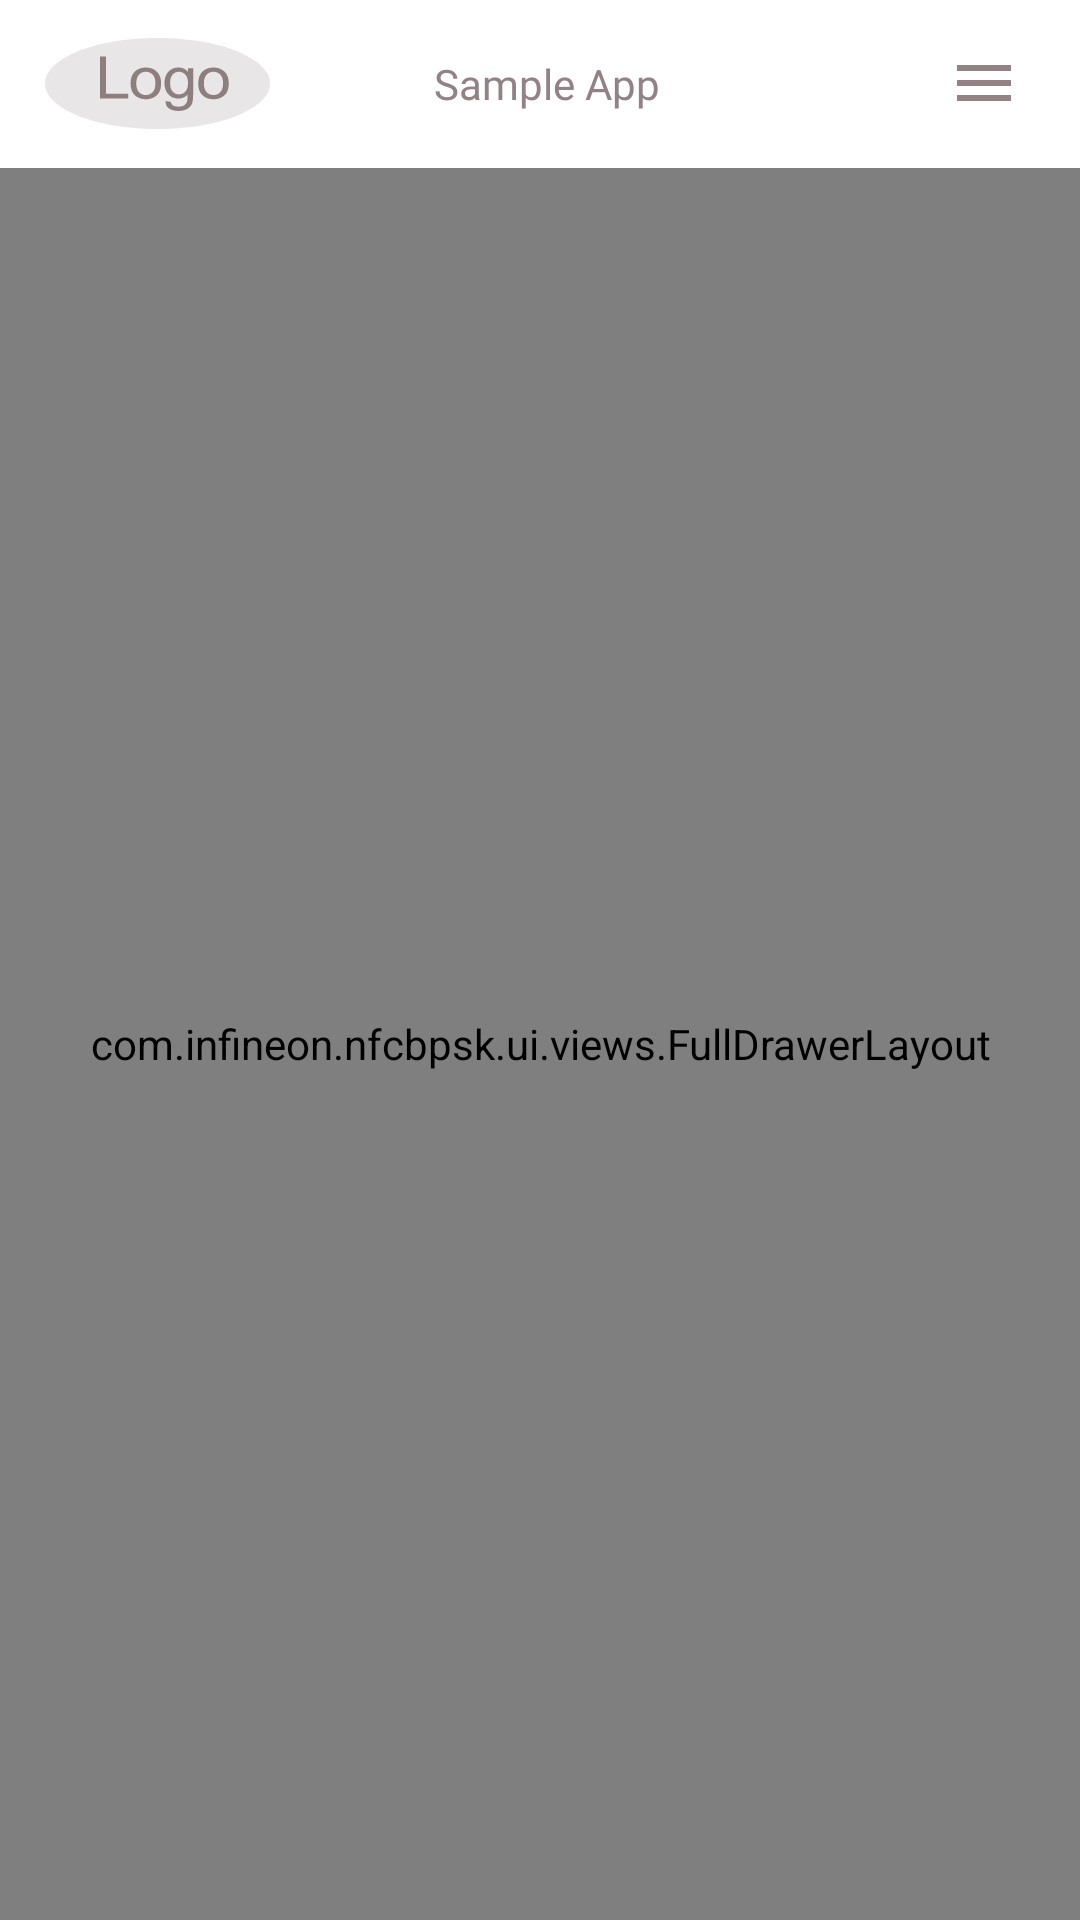

Icon bounding boxes for this 1080 x 1920 phone screenshot, format (x1, y1, x2, y2):
menu: (957, 65, 1011, 101)
